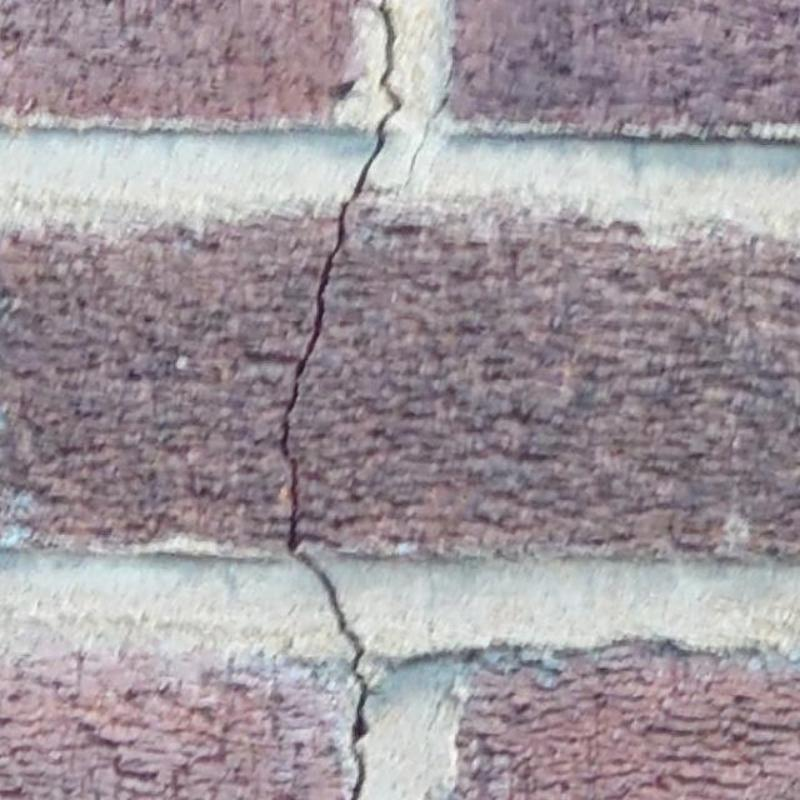pothole: (278, 0, 402, 799), (401, 51, 456, 189)
